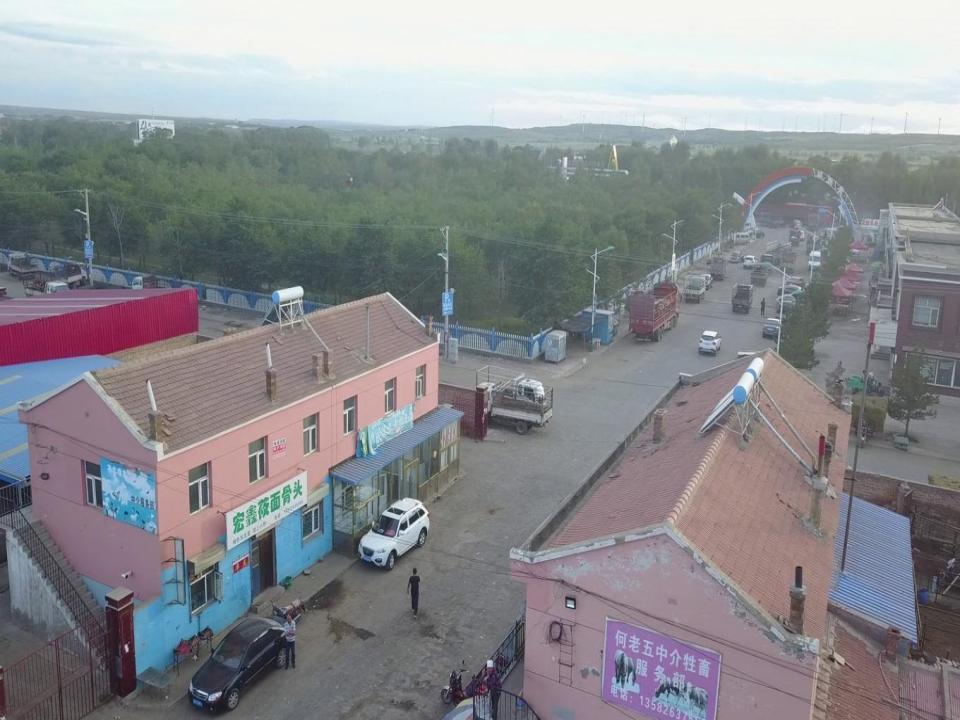car: (188, 614, 291, 714), (358, 494, 430, 570), (698, 328, 722, 356), (776, 294, 812, 312), (777, 284, 813, 301), (762, 317, 784, 340), (785, 275, 810, 290), (728, 230, 750, 246), (837, 244, 861, 256), (697, 273, 713, 291), (743, 253, 758, 269), (743, 228, 765, 238), (729, 250, 743, 264), (740, 225, 759, 233), (796, 229, 805, 240)
truck: (472, 378, 554, 435), (475, 362, 547, 419), (628, 282, 682, 342), (22, 271, 72, 306), (132, 272, 184, 302), (48, 258, 88, 294), (7, 251, 39, 280), (764, 239, 796, 266), (730, 283, 756, 314), (682, 272, 706, 303), (708, 255, 728, 281), (780, 247, 798, 274), (750, 261, 768, 286), (760, 251, 775, 276), (806, 230, 822, 253), (788, 228, 800, 246)
van: (807, 250, 822, 271), (820, 228, 838, 239)
